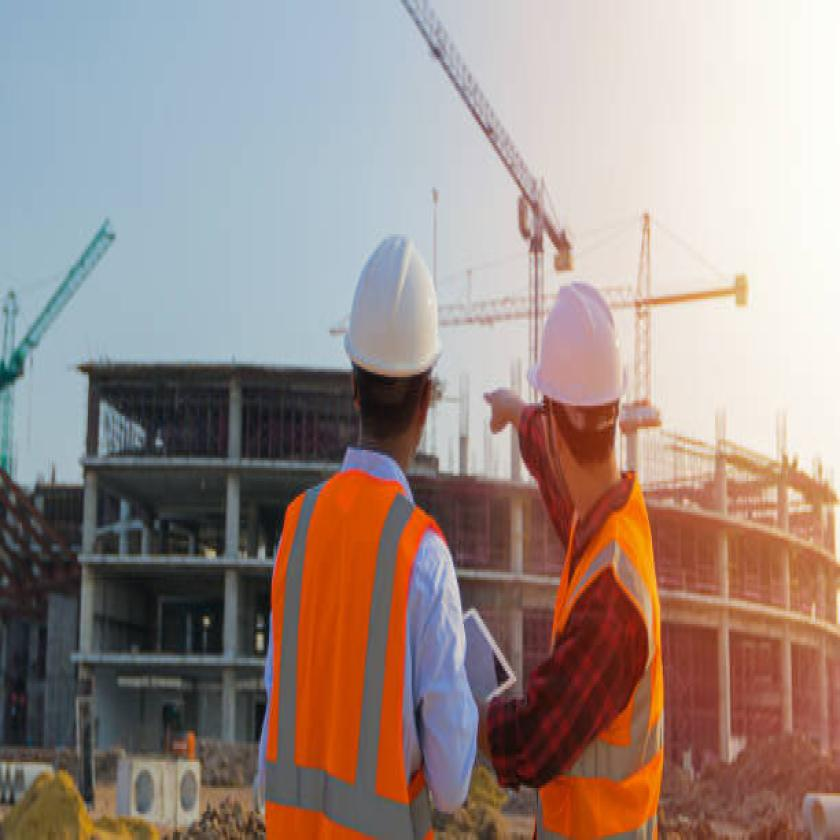Con_casco: (327, 206, 449, 540), (516, 257, 645, 534)
